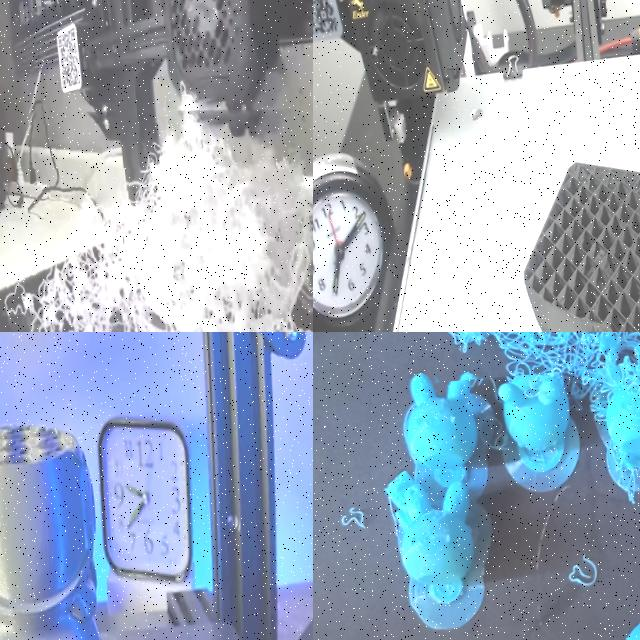spaghetti: (0, 71, 313, 332), (412, 332, 640, 383), (556, 548, 606, 600), (338, 487, 362, 538)
